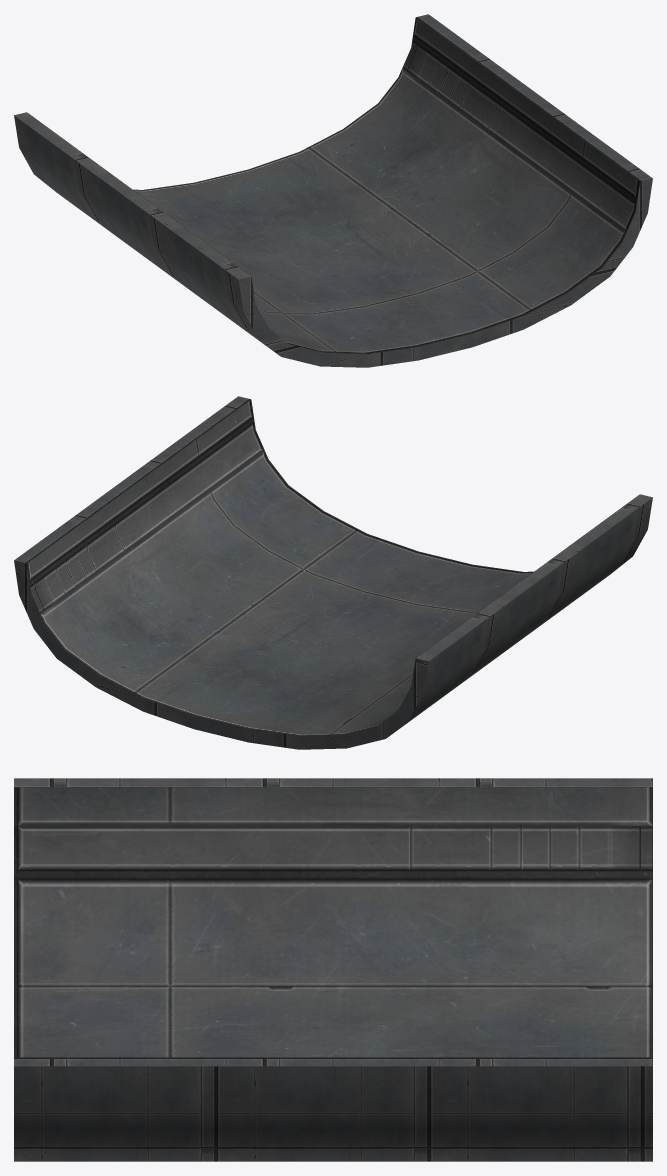
The model's file is Neon_TubeArchA1.FBX.
3 renders of one model, top to bottom at view 1: azimuth 30°, elevation 25°; view 2: azimuth 150°, elevation 25°; view 3: azimuth 270°, elevation 25°, orthographic. The views are drawn at different scales.
Parts seen in each view (by area): view 1: Neon_TubeArchA1; view 2: Neon_TubeArchA1; view 3: Neon_TubeArchA1.
Boxes of the visible parts, bbox=[...] form: Neon_TubeArchA1: bbox=[14, 14, 652, 367]; Neon_TubeArchA1: bbox=[14, 396, 652, 749]; Neon_TubeArchA1: bbox=[14, 778, 652, 1161].
Size of the model in its own units: 32 by 9.21 by 30.
